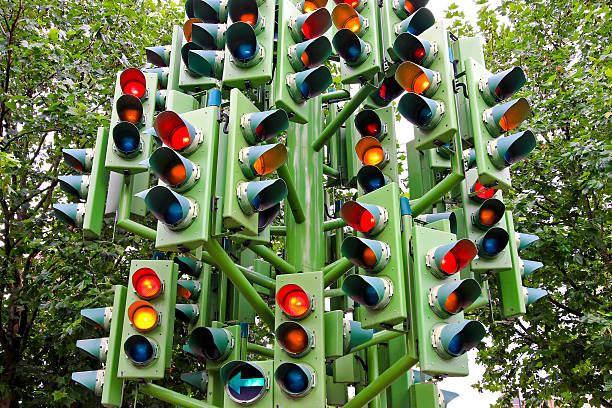Traffic Signal: (465, 53, 549, 312), (190, 267, 339, 407), (64, 248, 182, 394), (413, 214, 486, 376), (226, 82, 296, 235), (334, 191, 410, 325), (287, 0, 373, 104), (389, 1, 454, 131), (170, 2, 262, 75), (338, 96, 404, 191), (49, 131, 102, 229), (105, 55, 150, 156)
